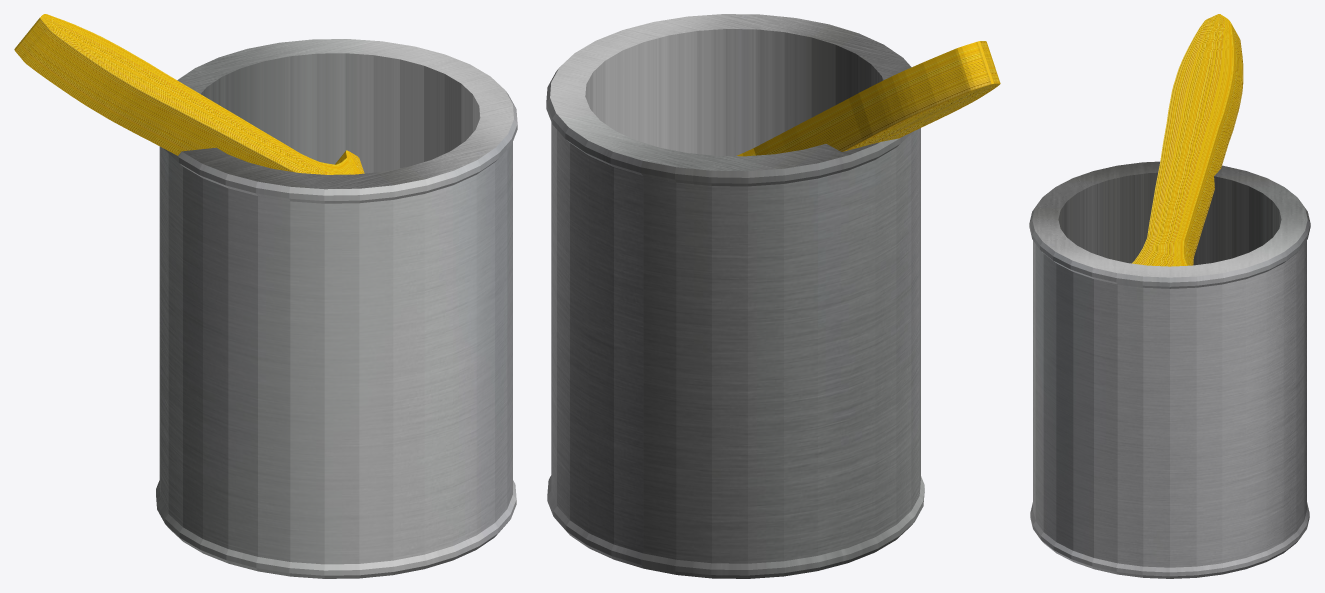
The model's file is Pincelcomlatadetinta.dae.
3 views of the same model, side by side, from view 1: azimuth 30°, elevation 25°; view 2: azimuth 150°, elevation 25°; view 3: azimuth 270°, elevation 25° (orthographic). The views are drawn at different scales.
Visible parts, largest first — view 1: Lata, Pincel; view 2: Lata, Pincel; view 3: Lata, Pincel.
Part boxes in pixels (bbox=[...]): Lata: bbox=[156, 39, 517, 578]; Pincel: bbox=[14, 14, 364, 174]; Lata: bbox=[546, 14, 924, 578]; Pincel: bbox=[737, 41, 1000, 156]; Lata: bbox=[1029, 161, 1310, 578]; Pincel: bbox=[1132, 14, 1243, 266].
Size of the model in its own units: 4.98 by 3.55 by 5.69.
2 materials, 2 textured.
